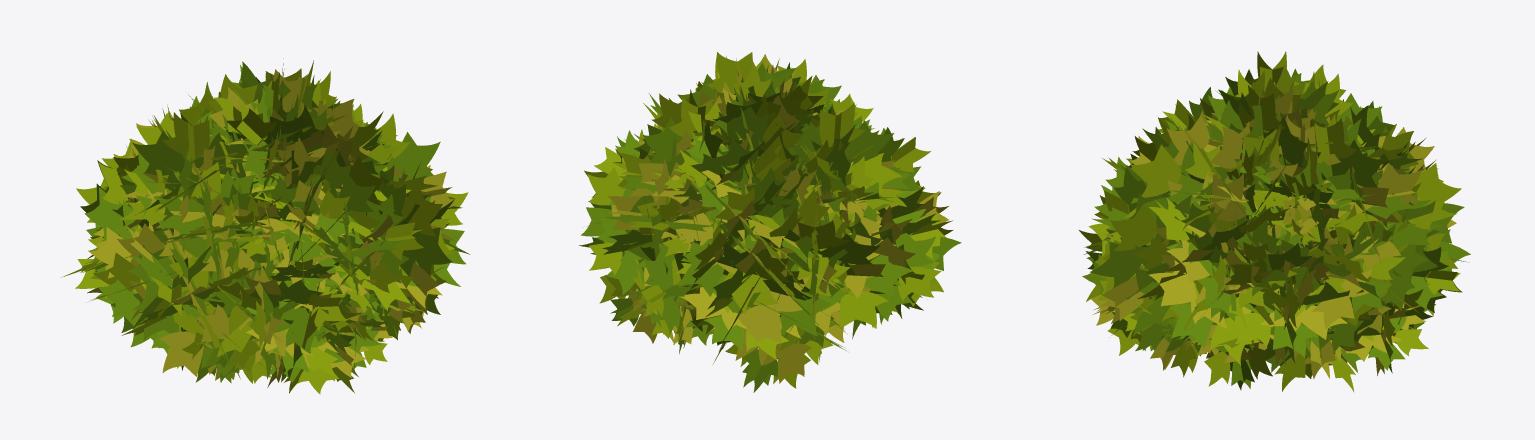
The model's file is TestBush4.glb.
3 views of the same model, side by side, from view 1: azimuth 30°, elevation 25°; view 2: azimuth 150°, elevation 25°; view 3: azimuth 270°, elevation 25° (orthographic). The views are drawn at different scales.
Parts seen in each view (by area): view 1: Plane.001; view 2: Plane.001; view 3: Plane.001.
Part boxes in pixels (x1,y1,x2,y2): Plane.001: (61,58,470,394); Plane.001: (579,52,961,392); Plane.001: (1078,51,1470,392).
Bounding box in the file's own units: 5.91 × 4.95 × 5.74.
Materials: 1 (1 with a texture image).
